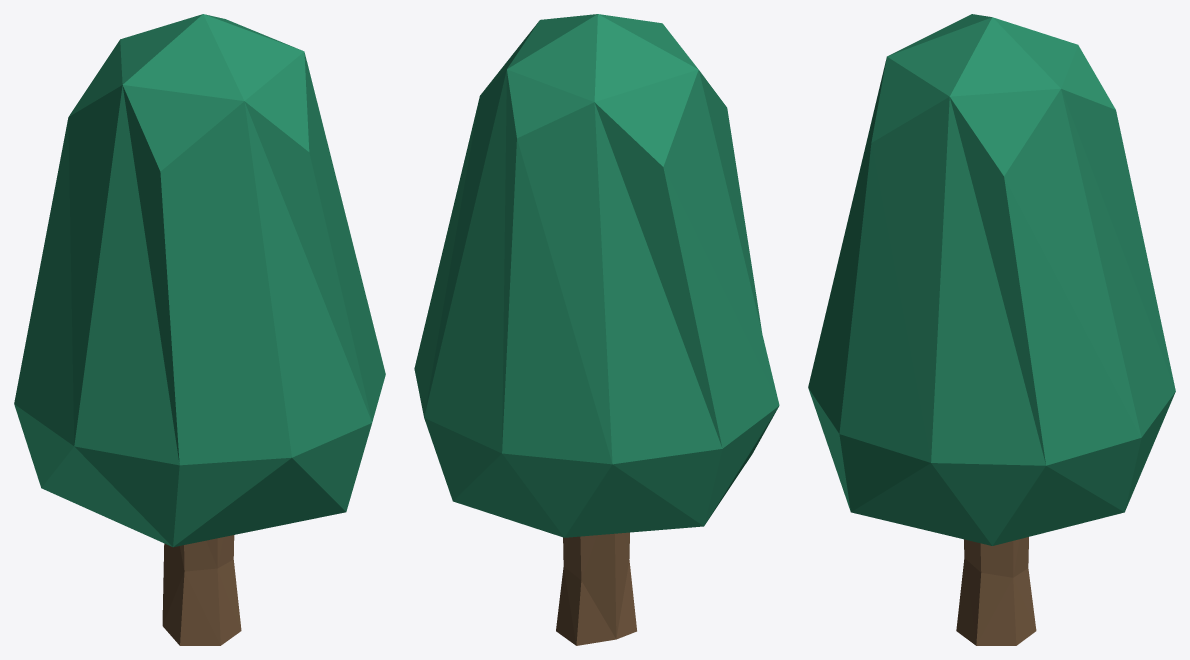
Rendered from Limba.fbx.
3 views of the same model, side by side, from view 1: azimuth 30°, elevation 25°; view 2: azimuth 150°, elevation 25°; view 3: azimuth 270°, elevation 25° (orthographic).
Visible parts, largest first — view 1: Limba; view 2: Limba; view 3: Limba.
Part boxes in pixels (x1,y1,x2,y2): Limba: (14,14,385,645); Limba: (414,14,779,645); Limba: (808,14,1175,645).
Size of the model in its own units: 348 by 654 by 355.
